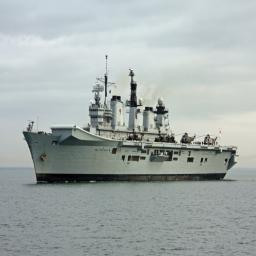Portanaves: (22, 53, 242, 187)
